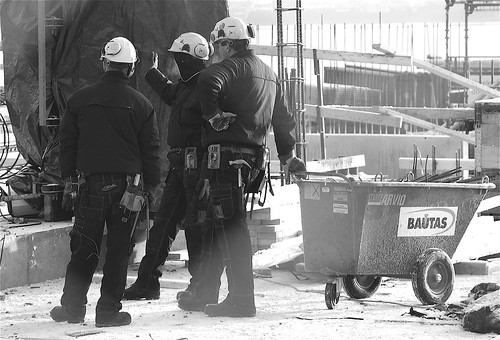person hardhat: (195, 17, 292, 314), (59, 37, 149, 324), (148, 30, 228, 319)
